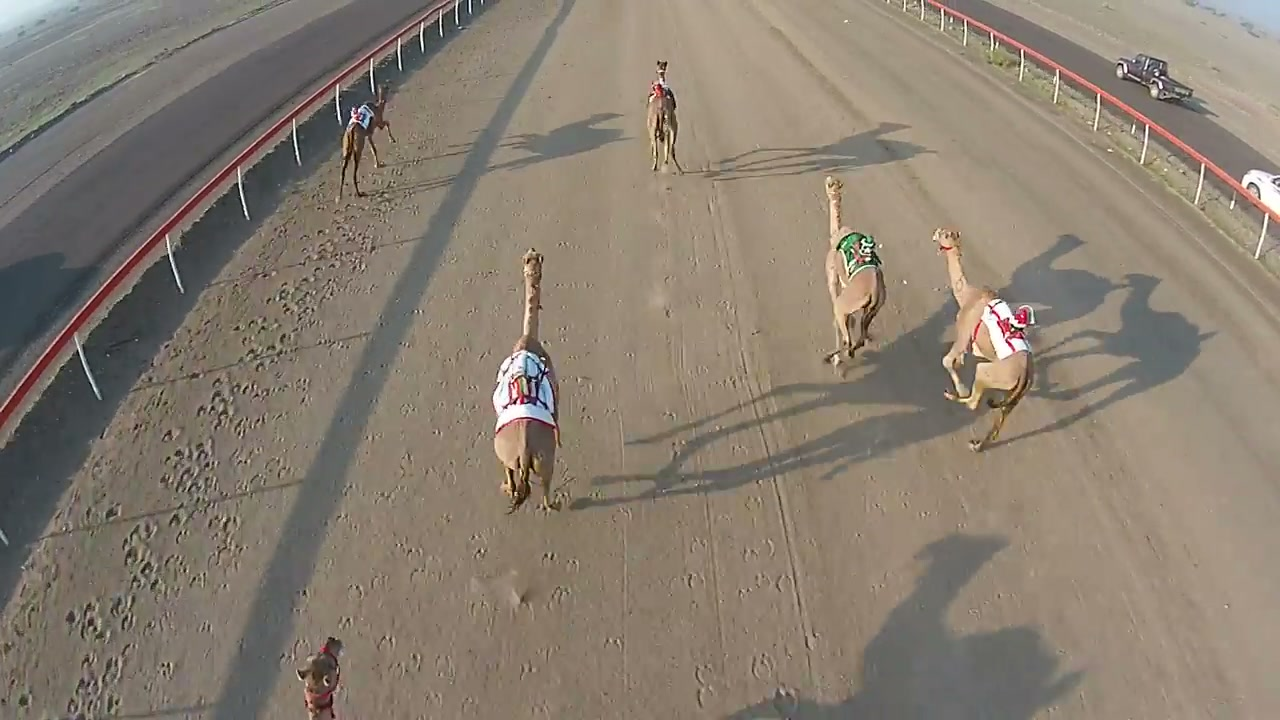animal_footprint: (9, 178, 402, 719)
